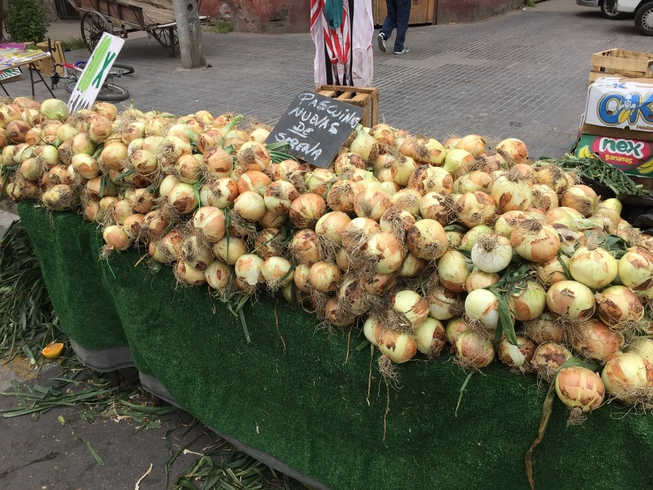precio: (266, 88, 373, 174)
